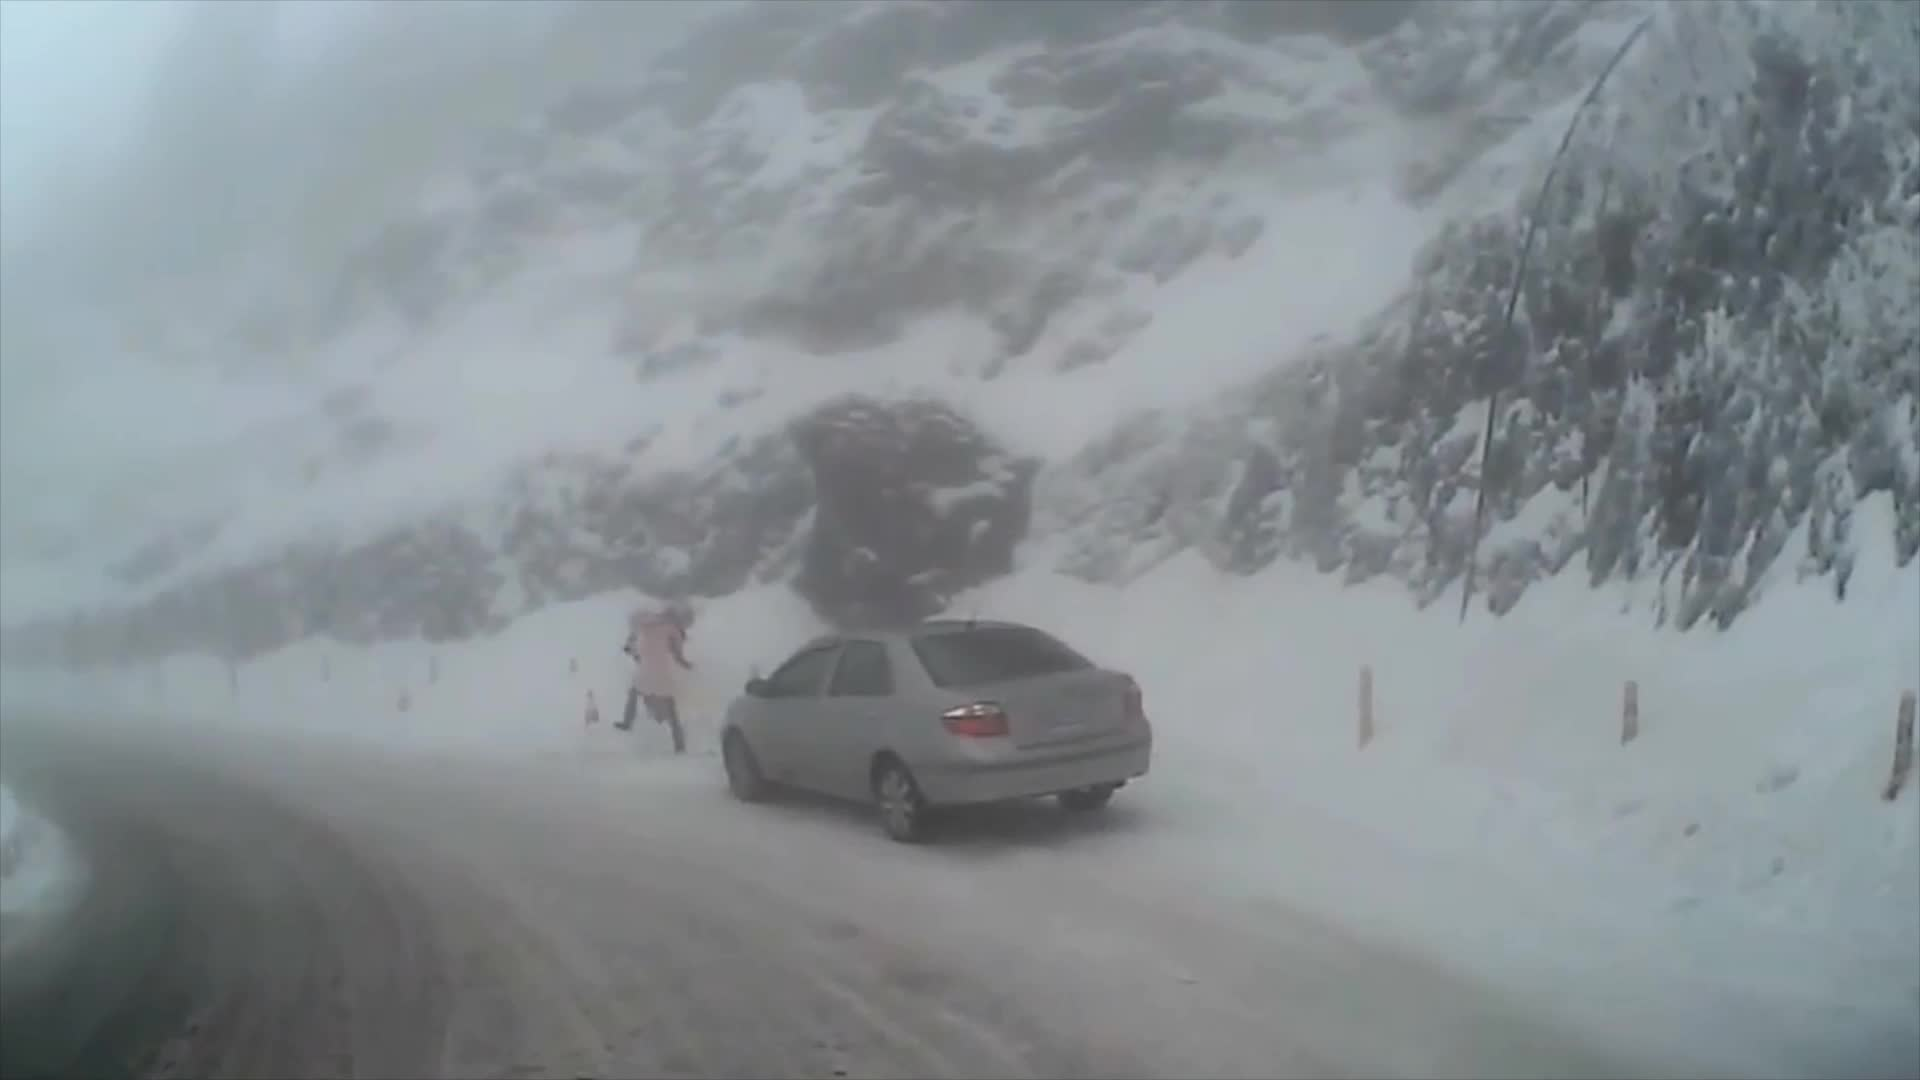pedestrian: (611, 597, 692, 753)
vehicle: (716, 619, 1151, 846)
